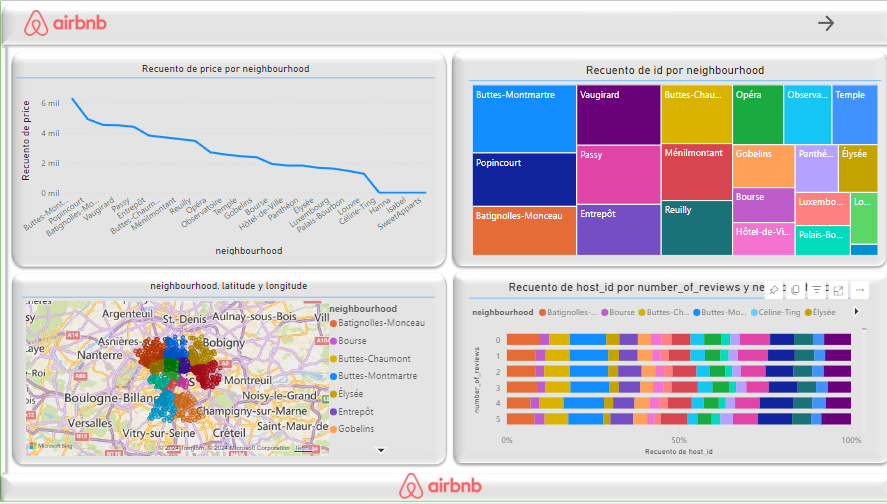

The page's visual inventory and layout, read from the dashboard file:
{"tool":"powerbi","page":{"name":"Airbnb N1","canvas":[1280,720],"ordinal":0},"visuals":[{"type":"lineChart","fields":{"Y":["CountNonNull(listings_summary.price)"],"Category":["listings_summary.neighbourhood"]},"box":[24,88,600,280],"z":0},{"type":"map","fields":{"X":["listings_summary.longitude"],"Y":["listings_summary.latitude"],"Series":["listings_summary.neighbourhood"]},"box":[32,400,592,256],"z":1000},{"type":"treemap","fields":{"Group":["listings_summary.neighbourhood"],"Values":["CountNonNull(listings_summary.id)"]},"box":[672,88,592,280],"z":2000},{"type":"hundredPercentStackedBarChart","fields":{"Series":["listings_summary.neighbourhood"],"Category":["listings_summary.number_of_reviews"],"Y":["CountNonNull(listings_summary.host_id)"]},"box":[672,400,576,256],"z":3000},{"type":"actionButton","box":[1168,16,32,32],"z":4000}]}

Visuals, with their boxes on the page's 1280x720 design canvas (x1, y1, x2, y2). These are canvas units, not pixel positions in the 887x504 screenshot, which may show the page scaled, cropped or inside an application window:
lineChart - CountNonNull(listings_summary.price) x listings_summary.neighbourhood: [x1=24, y1=88, x2=624, y2=368]
map - listings_summary.longitude x listings_summary.latitude: [x1=32, y1=400, x2=624, y2=656]
treemap - listings_summary.neighbourhood x CountNonNull(listings_summary.id): [x1=672, y1=88, x2=1264, y2=368]
hundredPercentStackedBarChart - listings_summary.neighbourhood x listings_summary.number_of_reviews: [x1=672, y1=400, x2=1248, y2=656]
actionButton: [x1=1168, y1=16, x2=1200, y2=48]
